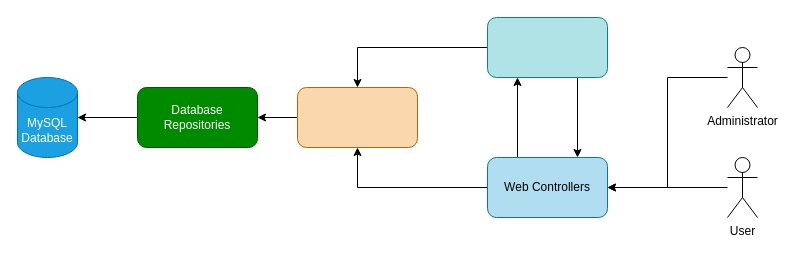
Image size: 795x256. Some labels were removed from this diagram. Each missing label, with the centre of its shape:
"REST Controllers" goes at [547,47].
"Services" goes at [357,117].
